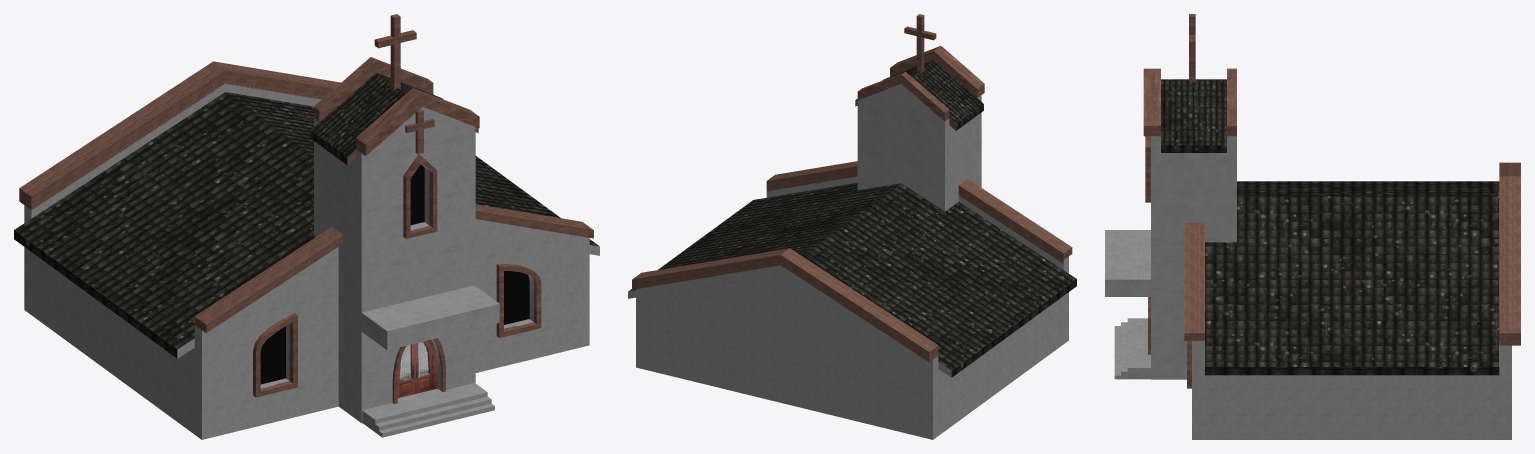
Rendered from Church.fbx.
3 views of the same model, side by side, from view 1: azimuth 30°, elevation 25°; view 2: azimuth 150°, elevation 25°; view 3: azimuth 270°, elevation 25° (orthographic). The views are drawn at different scales.
Parts seen in each view (by area): view 1: Church; view 2: Church; view 3: Church.
Part boxes in pixels (box(x1,y1,x2,y2)): Church: box(14, 14, 599, 439); Church: box(628, 14, 1076, 439); Church: box(1105, 14, 1520, 439).
Size of the model in its own units: 23.01 by 19.6 by 21.77.
